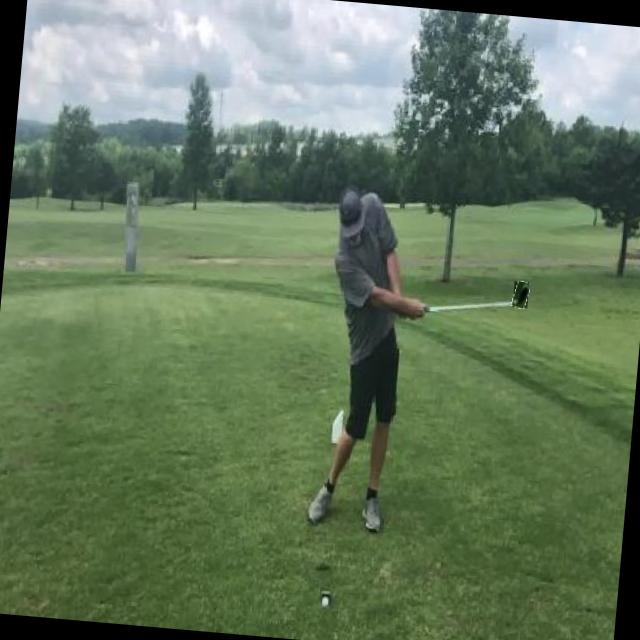club head: (512, 281, 529, 308)
